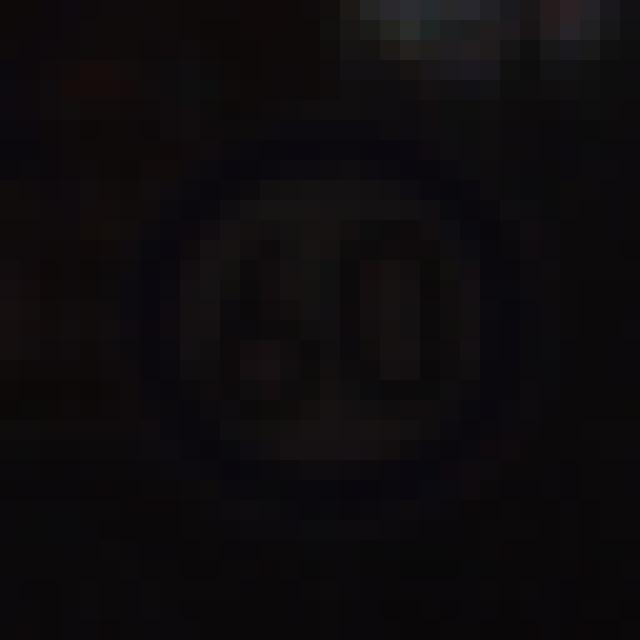SPEED-LIMIT-60: (164, 144, 505, 490)
